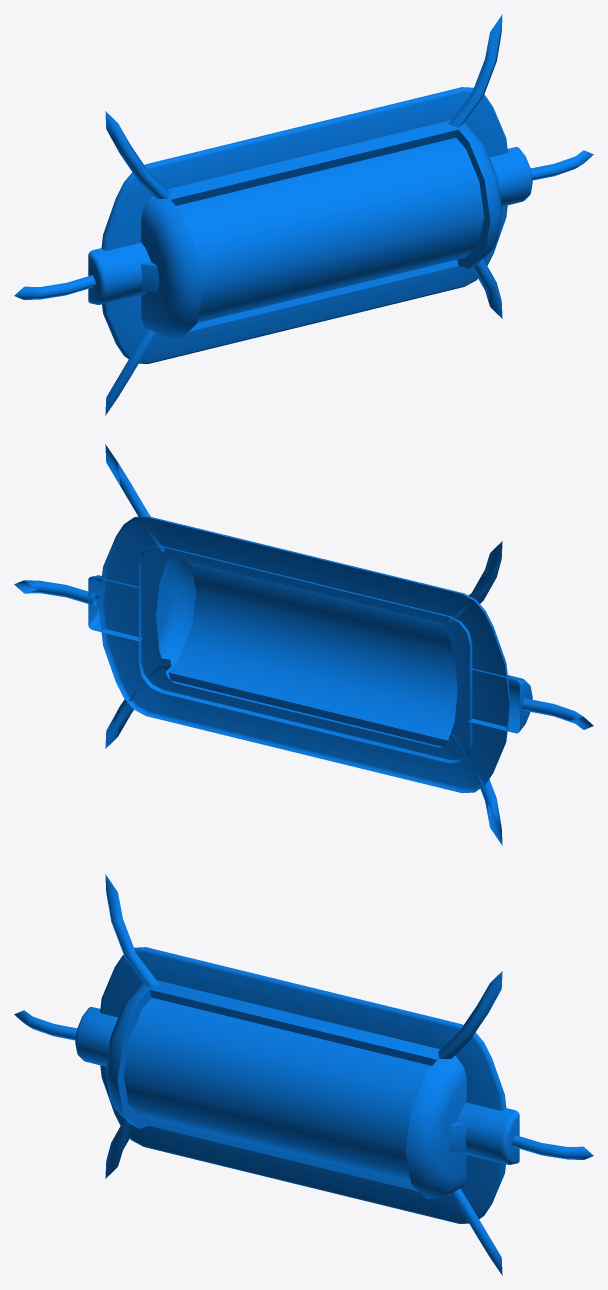
File: ShieldFrontPiece.fbx
3 views of the same model, one above another, from view 1: azimuth 30°, elevation 25°; view 2: azimuth 150°, elevation 25°; view 3: azimuth 330°, elevation 25° (orthographic).
Parts seen in each view (by area): view 1: C_Shield; view 2: C_Shield; view 3: C_Shield.
Boxes of the visible parts, bbox=[...] form: C_Shield: bbox=[14, 14, 593, 415]; C_Shield: bbox=[14, 444, 593, 845]; C_Shield: bbox=[14, 874, 593, 1275].
Size of the model in its own units: 233 by 117 by 29.52.
